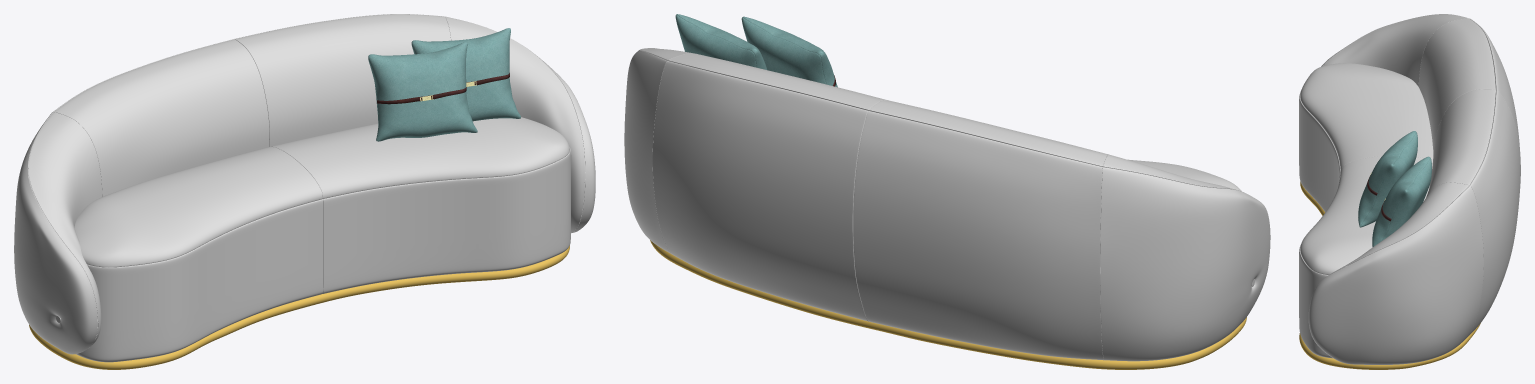
The model's file is SLN_NICO.glb.
The picture shows the model from 3 angles, left to right: view 1: azimuth 30°, elevation 25°; view 2: azimuth 150°, elevation 25°; view 3: azimuth 270°, elevation 25°; orthographic projection. The views are drawn at different scales.
Visible parts, largest first — view 1: NICO, ALMOFADA MARINHA_.001, ALMOFADA MARINHA_.002; view 2: NICO, ALMOFADA MARINHA_.001, ALMOFADA MARINHA_.002; view 3: NICO, ALMOFADA MARINHA_.002, ALMOFADA MARINHA_.001.
Part boxes in pixels (bbox=[...]): NICO: bbox=[14, 14, 595, 369]; ALMOFADA MARINHA_.001: bbox=[368, 42, 477, 141]; ALMOFADA MARINHA_.002: bbox=[411, 28, 520, 121]; NICO: bbox=[624, 48, 1270, 369]; ALMOFADA MARINHA_.001: bbox=[741, 16, 837, 87]; ALMOFADA MARINHA_.002: bbox=[675, 14, 766, 69]; NICO: bbox=[1299, 14, 1520, 369]; ALMOFADA MARINHA_.002: bbox=[1372, 156, 1431, 246]; ALMOFADA MARINHA_.001: bbox=[1358, 131, 1417, 227].
Bounding box in the file's own units: 2.23 × 0.7882 × 0.9046.
5 materials, 2 textured.
